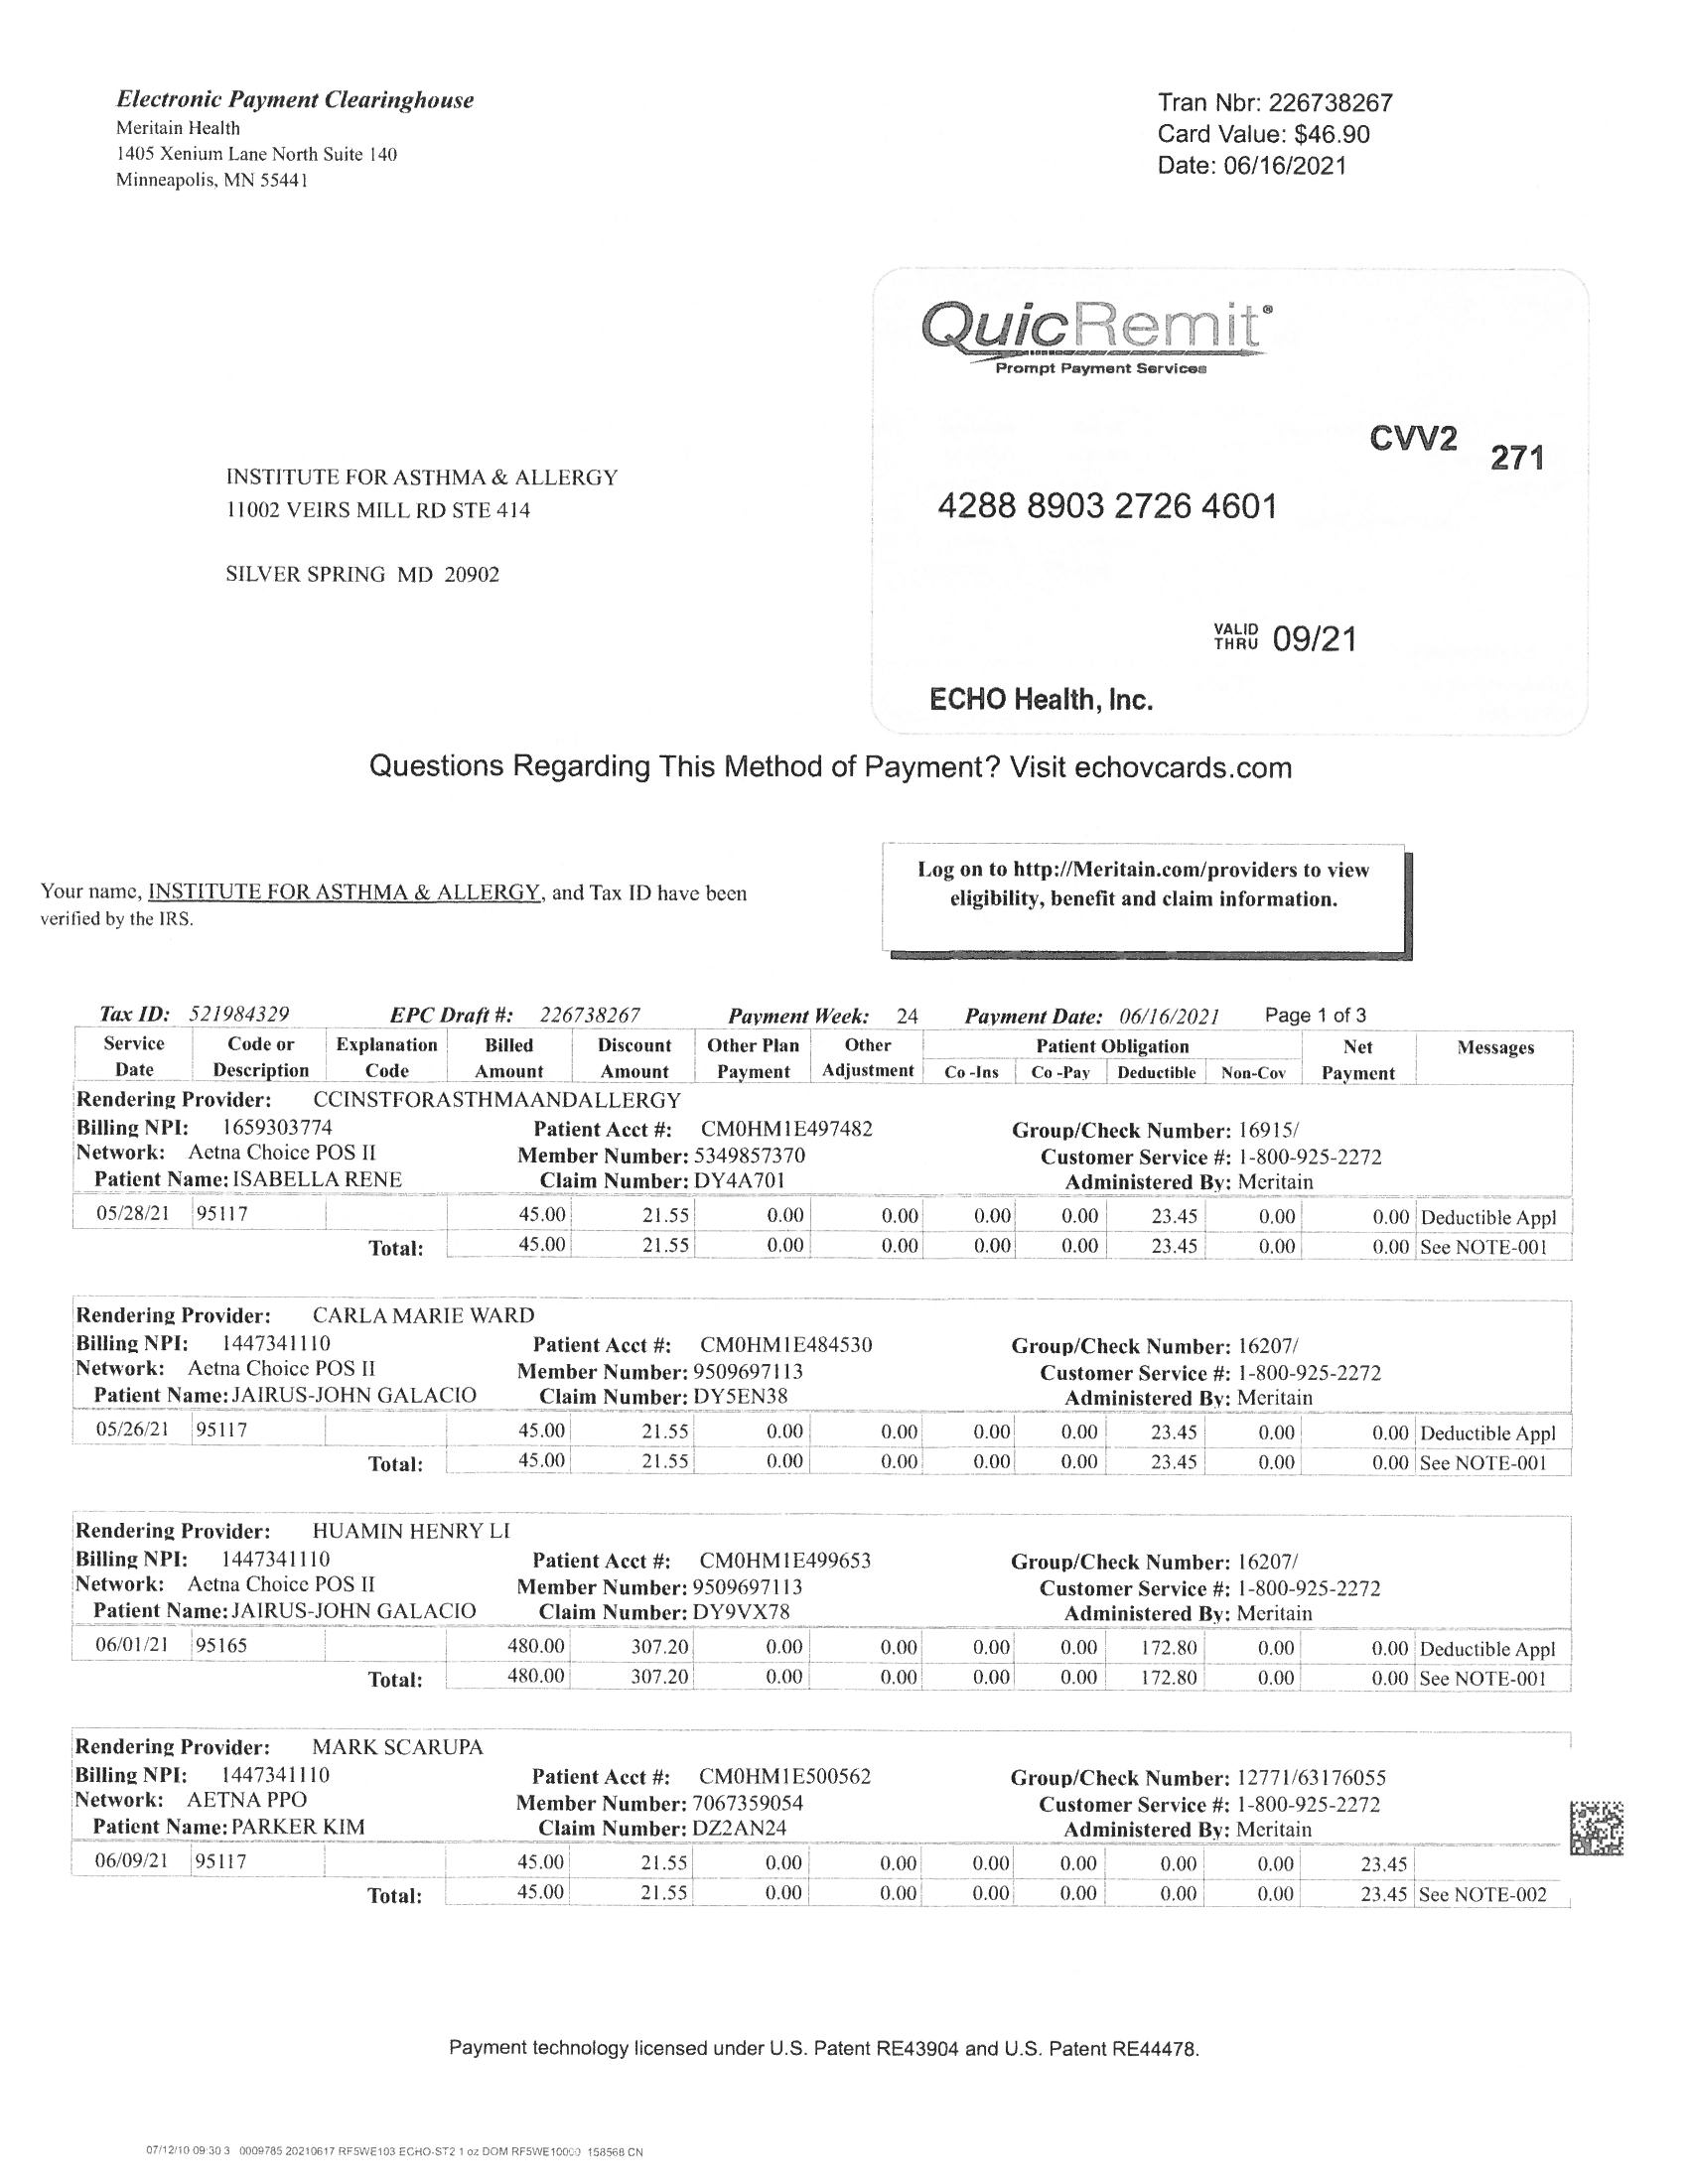data: (200, 440, 665, 626)
table: (62, 980, 1583, 1283), (55, 1714, 1580, 1943), (48, 1507, 1590, 1709), (62, 1283, 1585, 1486)
